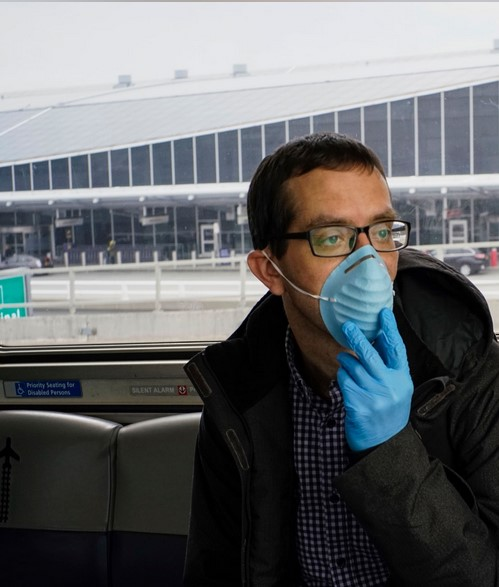face_with_mask: (254, 145, 412, 371)
